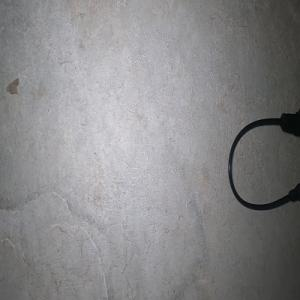Wire: (228, 107, 300, 210)
